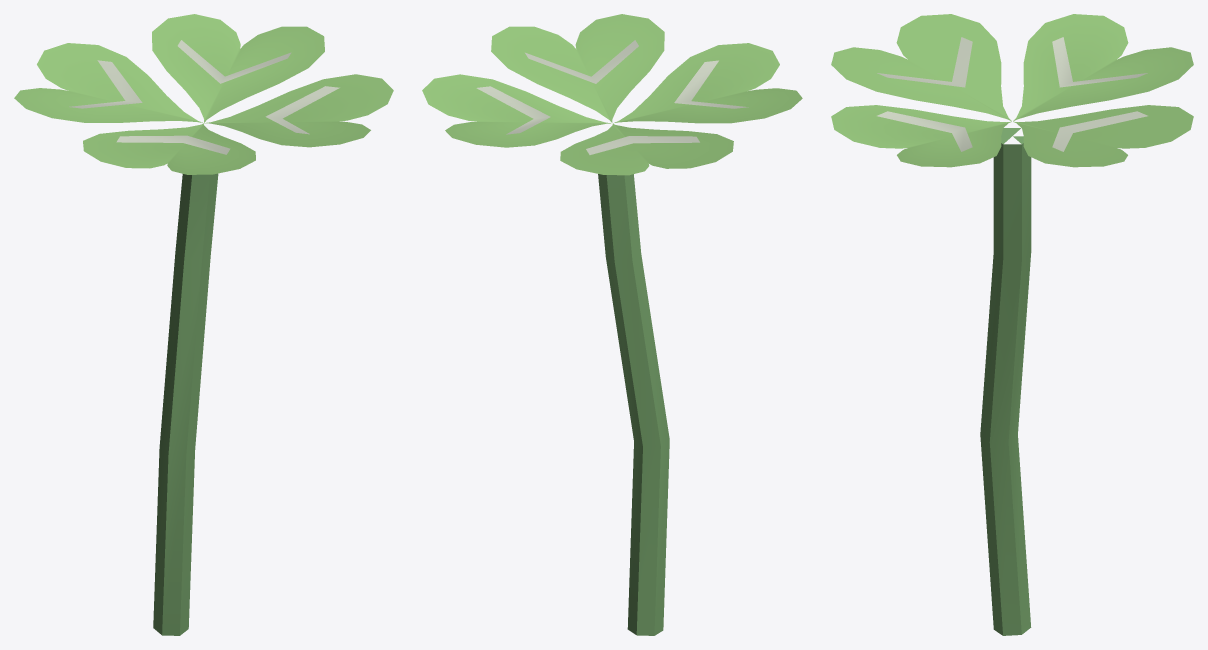
Rendered from clover.gltf.
The picture shows the model from 3 angles, left to right: view 1: azimuth 30°, elevation 25°; view 2: azimuth 150°, elevation 25°; view 3: azimuth 270°, elevation 25°; orthographic projection. The views are drawn at different scales.
Parts seen in each view (by area): view 1: clover; view 2: clover; view 3: clover.
Boxes of the visible parts, bbox=[...] form: clover: bbox=[14, 14, 393, 635]; clover: bbox=[422, 14, 802, 635]; clover: bbox=[831, 14, 1193, 635].
Bounding box in the file's own units: 0.271 × 0.4584 × 0.271.
